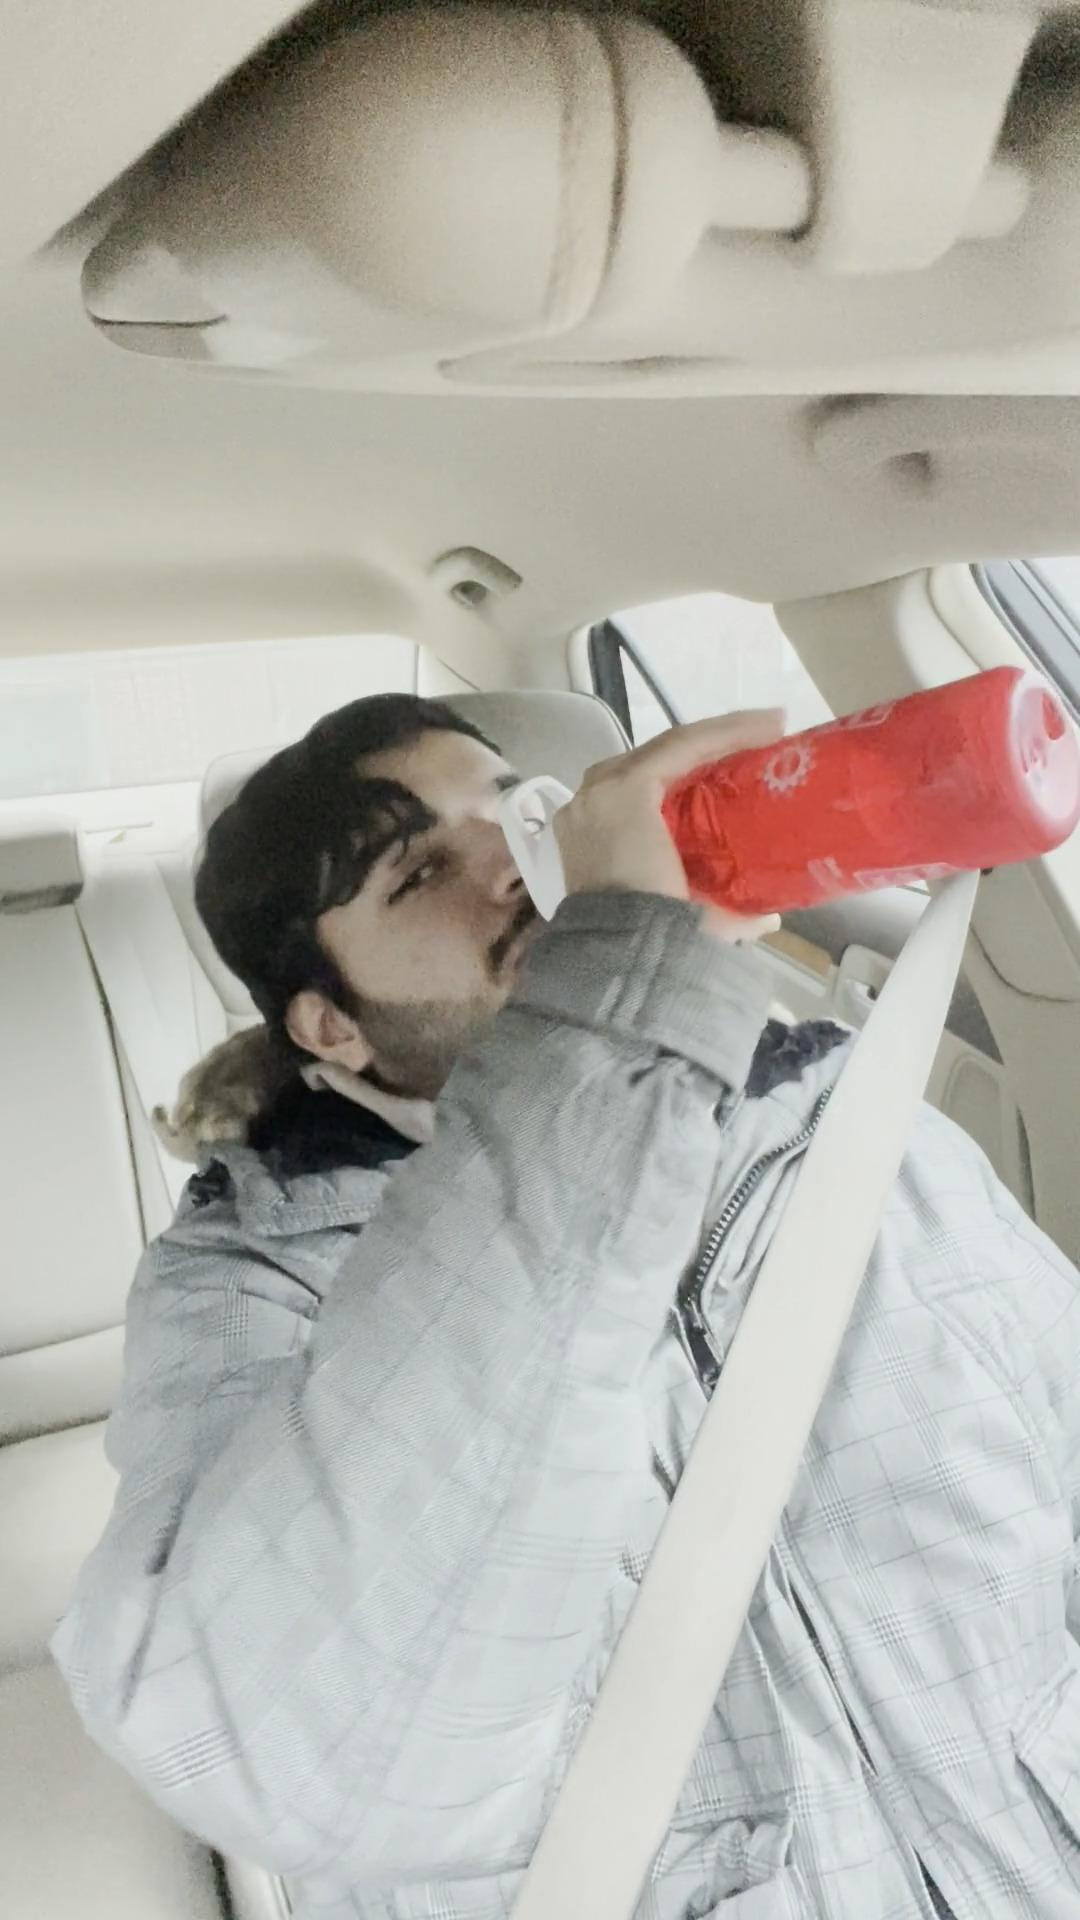drinking: (505, 684, 1080, 895)
seatbelt: (564, 1040, 1080, 1920)
